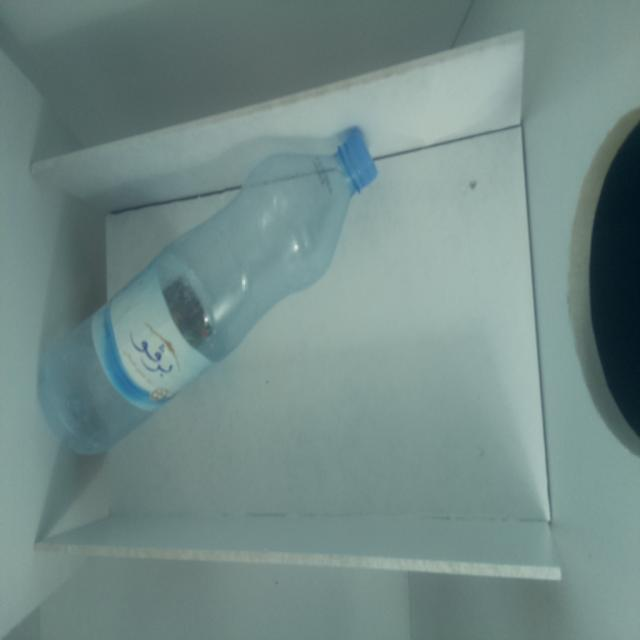bottle: (36, 126, 379, 461)
